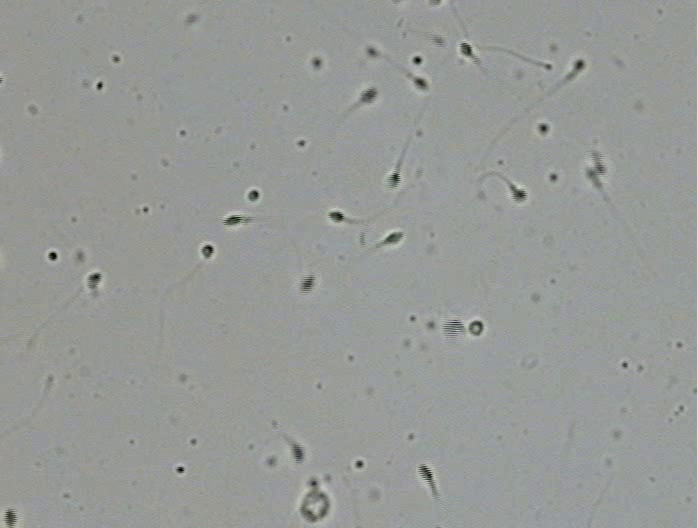Impurity: (299, 477, 330, 523)
S: (588, 149, 606, 176), (442, 320, 465, 338), (417, 463, 434, 484), (359, 87, 378, 104), (2, 508, 18, 528), (290, 441, 304, 463), (511, 186, 528, 203), (300, 274, 315, 293), (387, 171, 401, 189), (384, 232, 403, 245), (222, 215, 244, 226), (586, 169, 601, 185), (459, 42, 474, 57), (469, 321, 483, 336), (430, 35, 446, 48), (327, 211, 344, 223), (413, 77, 428, 90), (201, 245, 214, 259), (88, 273, 101, 287), (248, 190, 259, 202), (366, 47, 378, 58), (574, 59, 585, 71), (311, 58, 322, 69), (538, 123, 549, 134), (412, 55, 423, 65), (431, 1, 442, 6)
